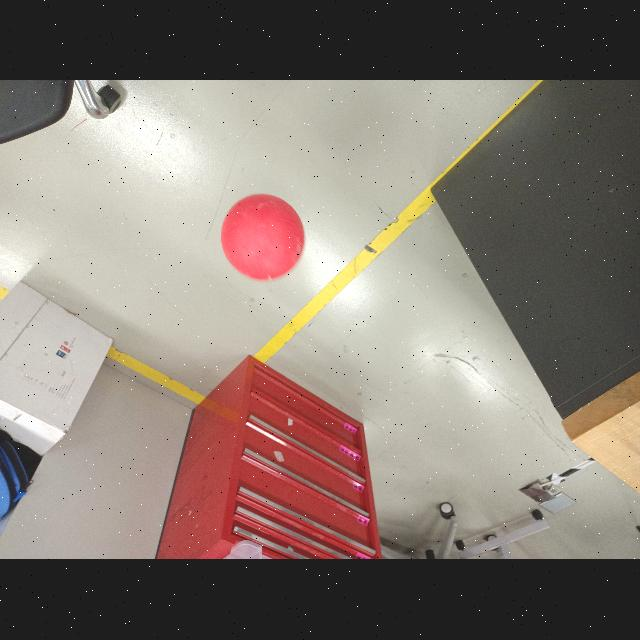R: (222, 195, 304, 282)
